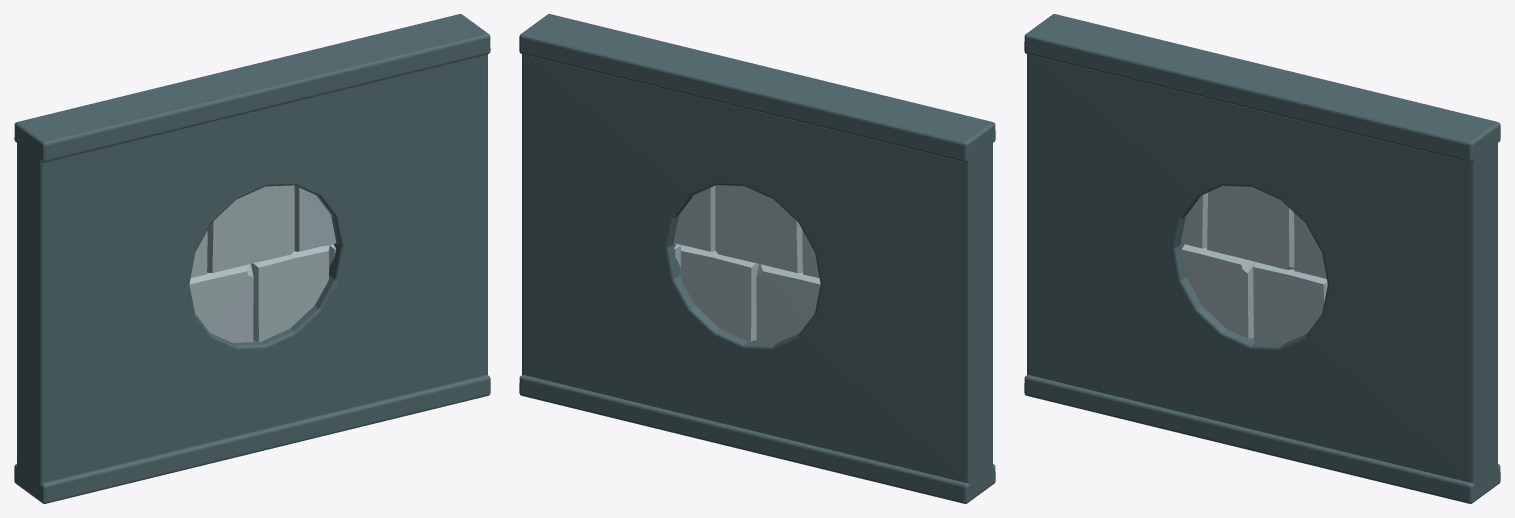
File: wall circle inside.fbx
The picture shows the model from 3 angles, left to right: view 1: azimuth 30°, elevation 25°; view 2: azimuth 150°, elevation 25°; view 3: azimuth 330°, elevation 25°; orthographic projection.
Visible parts, largest first — view 1: wall circle inside; view 2: wall circle inside; view 3: wall circle inside.
Boxes of the visible parts, box(x1,y1,x2,y2) form: wall circle inside: box(14, 14, 490, 503); wall circle inside: box(519, 14, 995, 503); wall circle inside: box(1024, 14, 1500, 503).
Size of the model in its own units: 400 by 308 by 46.25.
